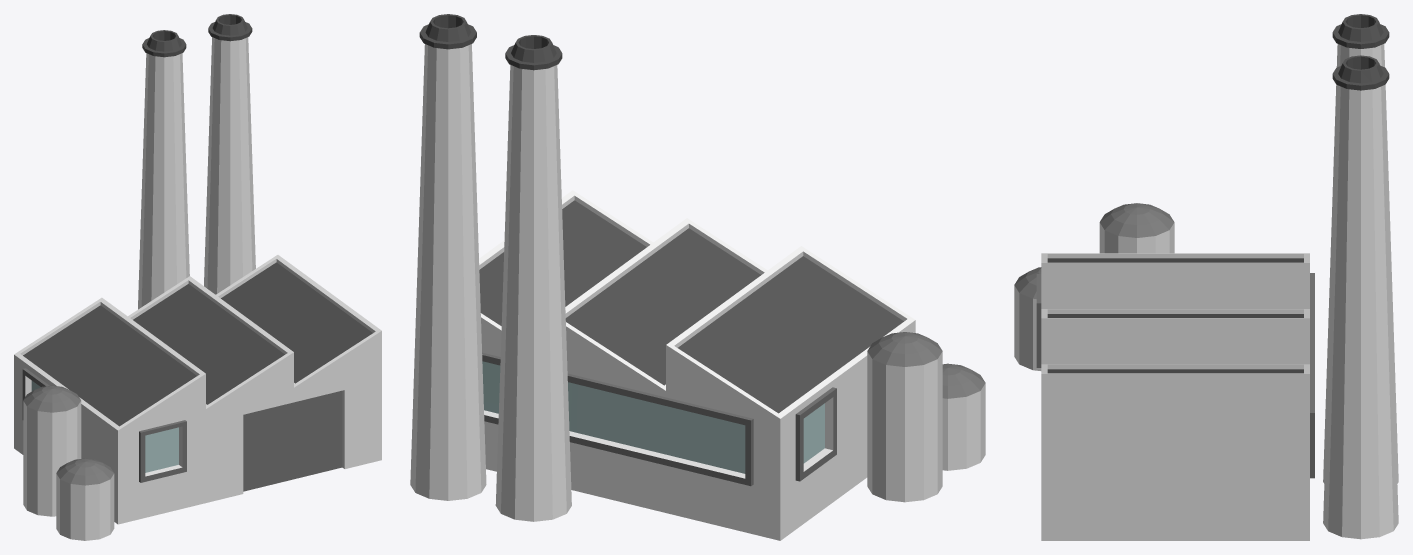
File: Factory-transformed.glb
3 views of the same model, side by side, from view 1: azimuth 30°, elevation 25°; view 2: azimuth 150°, elevation 25°; view 3: azimuth 270°, elevation 25° (orthographic). The views are drawn at different scales.
Parts seen in each view (by area): view 1: Factory; view 2: Factory; view 3: Factory.
Boxes of the visible parts, <box> form: Factory: <box>14,14,381,540</box>; Factory: <box>410,14,985,540</box>; Factory: <box>1014,14,1398,540</box>.
Bounding box in the file's own units: 139 × 149 × 113.
1 material, 1 textured.
